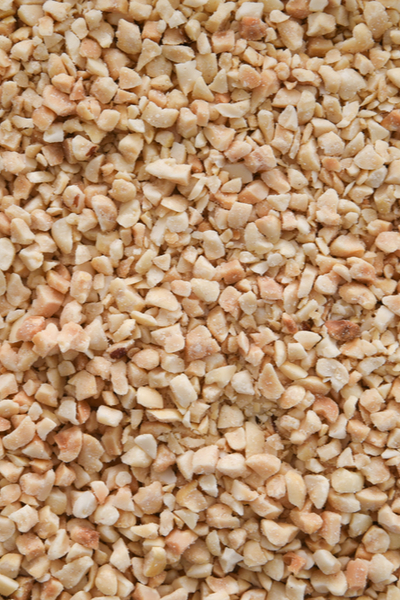seed: (1, 1, 400, 600)
